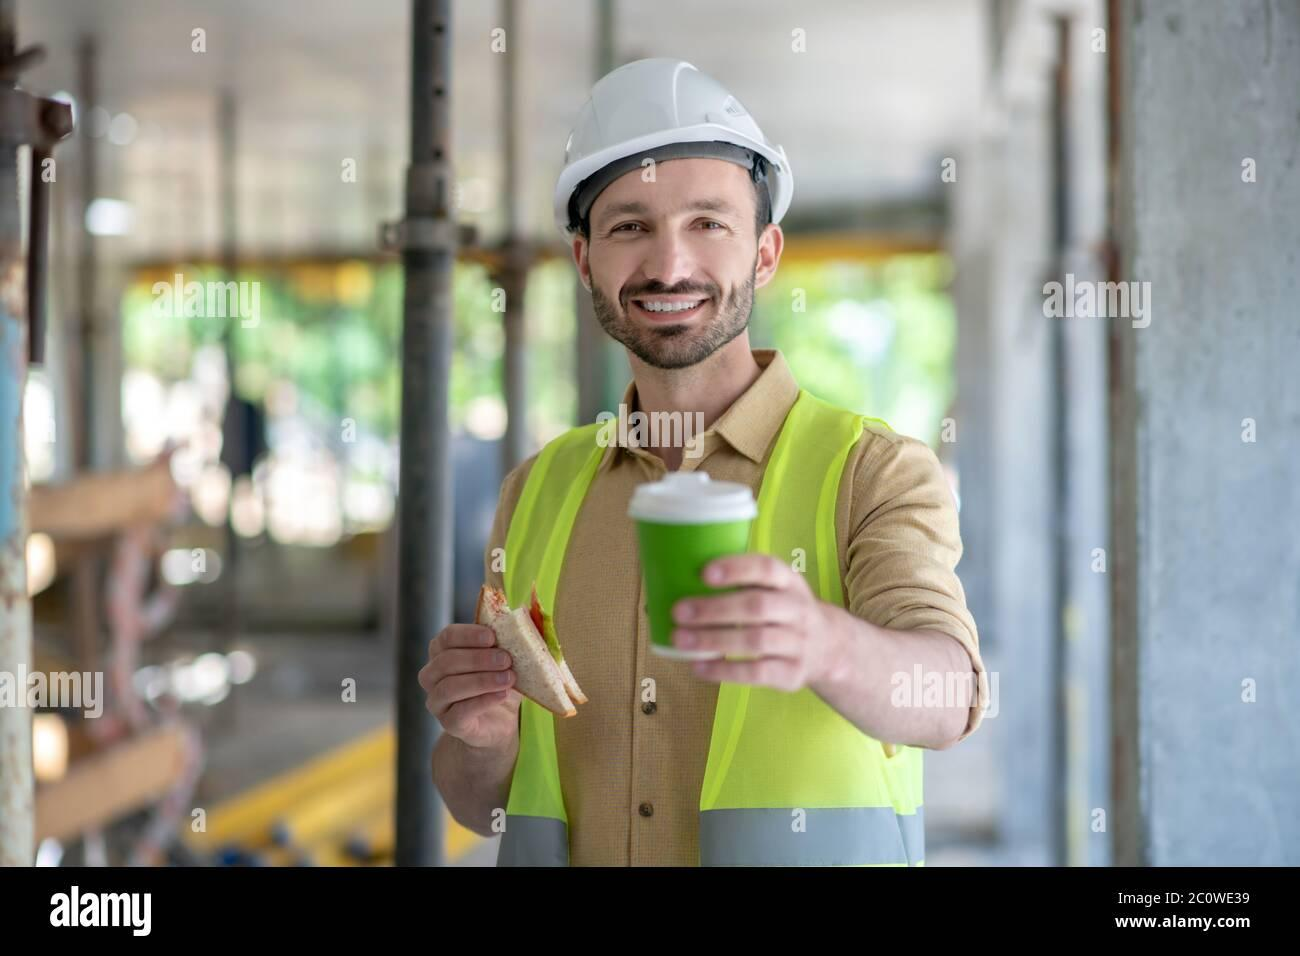hat: (526, 26, 836, 244)
vest: (474, 359, 949, 864)
